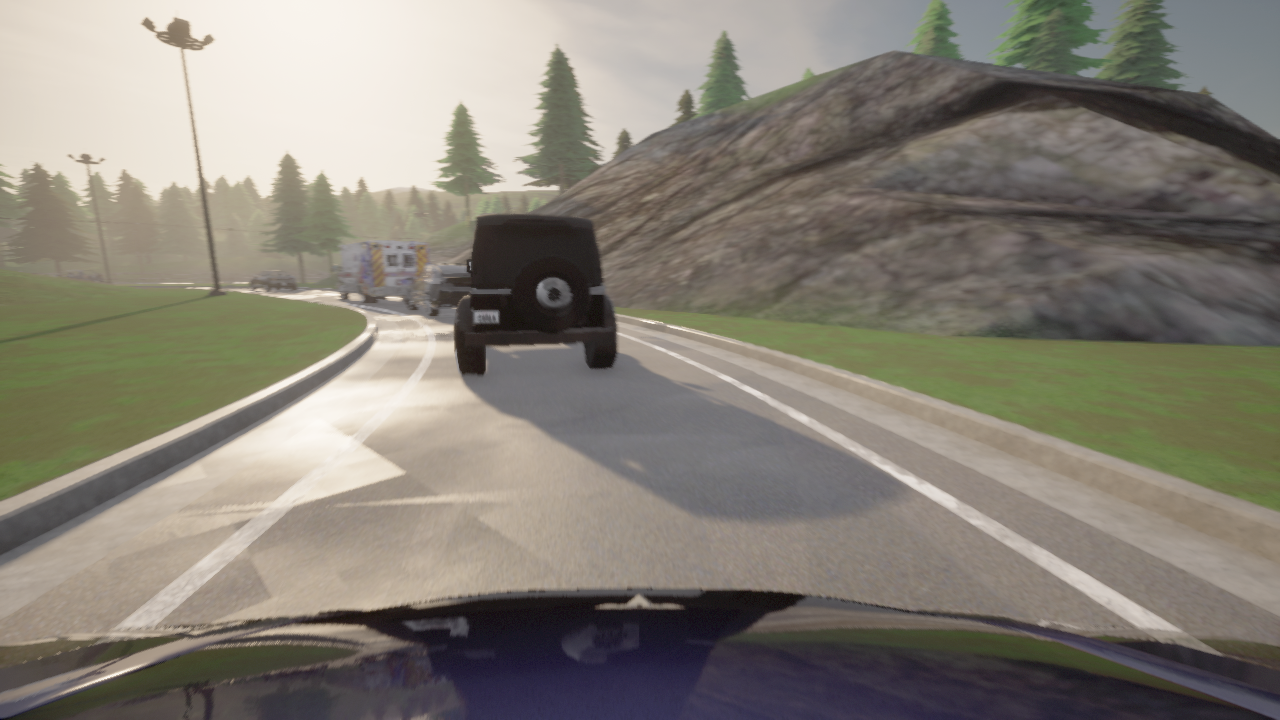cyclist: (0, 588, 1279, 719), (455, 213, 617, 375), (332, 240, 429, 303), (406, 263, 472, 316), (249, 270, 296, 291), (51, 270, 105, 282)
